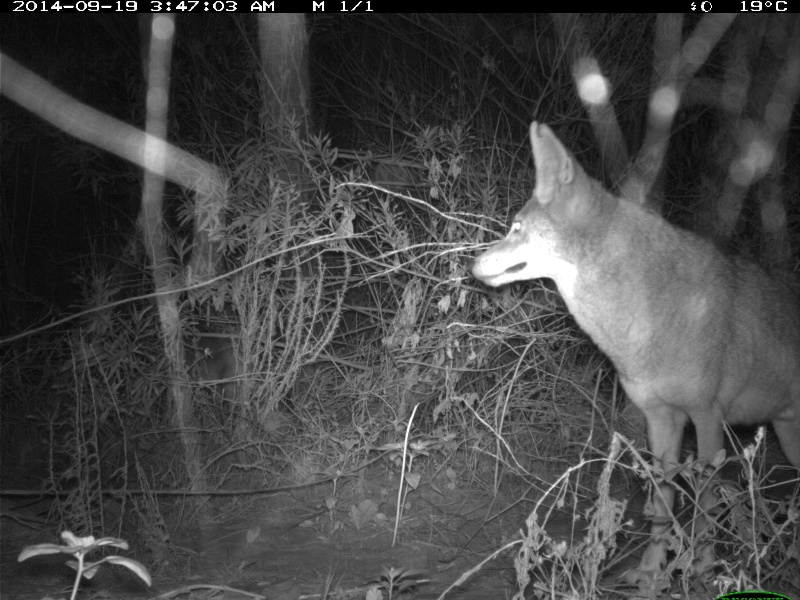coyote: (467, 116, 800, 584)
